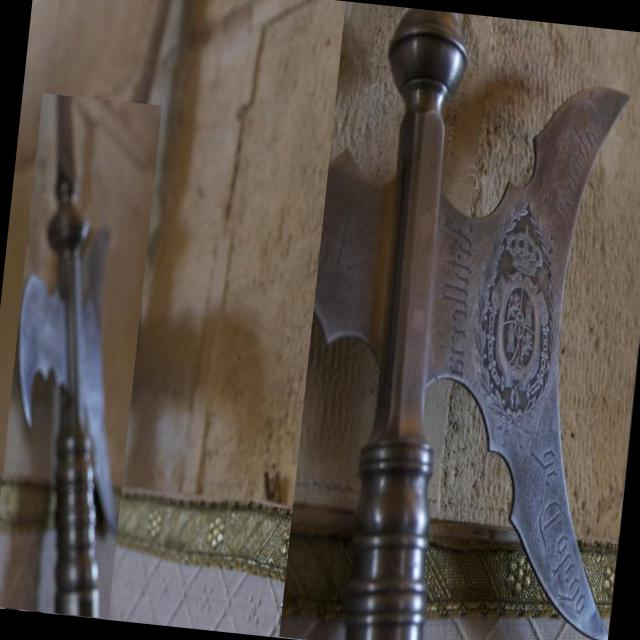Axe: (313, 8, 628, 640), (18, 96, 117, 617)
